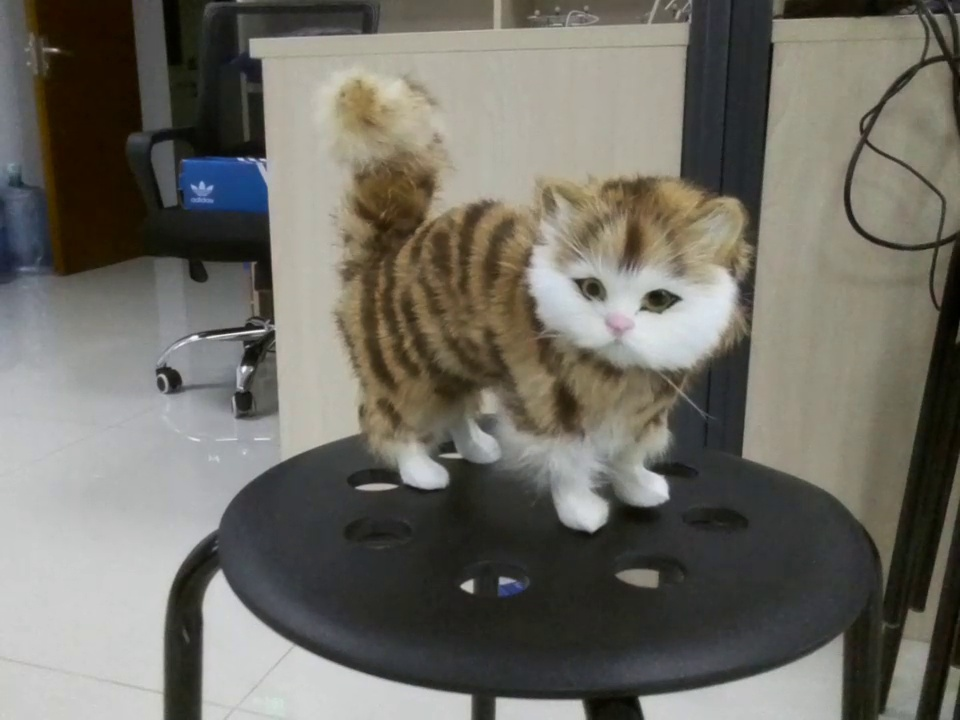cat: (322, 67, 758, 532)
